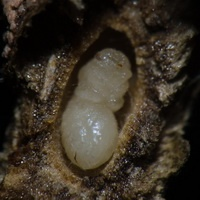insect: (59, 46, 134, 171), (61, 48, 131, 169)
